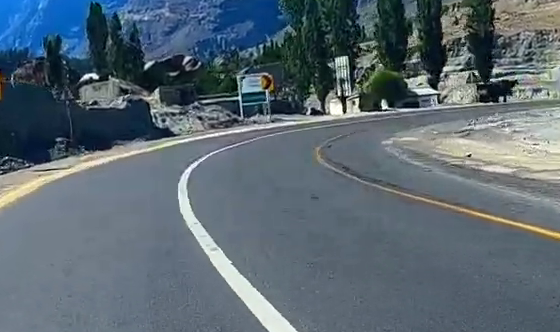stright: (171, 119, 485, 305)
